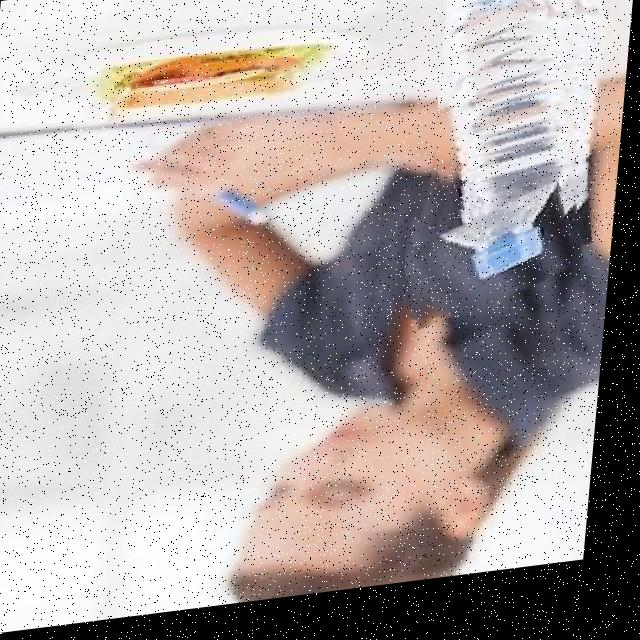litter: (428, 0, 605, 291), (406, 203, 591, 332)
